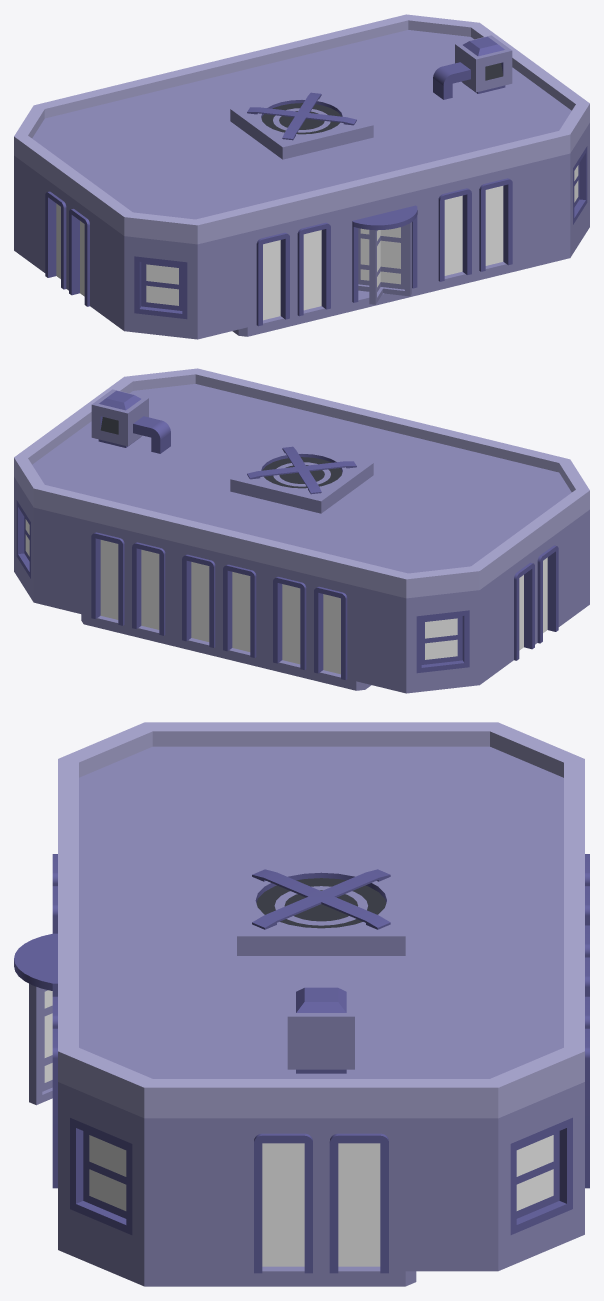
File: Store01.dae
3 views of the same model, one above another, from view 1: azimuth 30°, elevation 25°; view 2: azimuth 150°, elevation 25°; view 3: azimuth 270°, elevation 25° (orthographic). The views are drawn at different scales.
Visible parts, largest first — view 1: mergedBlocks; view 2: mergedBlocks; view 3: mergedBlocks.
Part boxes in pixels (x1=…): mergedBlocks: x1=14, y1=14, x2=589, y2=339; mergedBlocks: x1=14, y1=368, x2=589, y2=693; mergedBlocks: x1=14, y1=722, x2=589, y2=1286.
Size of the model in its own units: 20.74 by 6.58 by 13.66.
